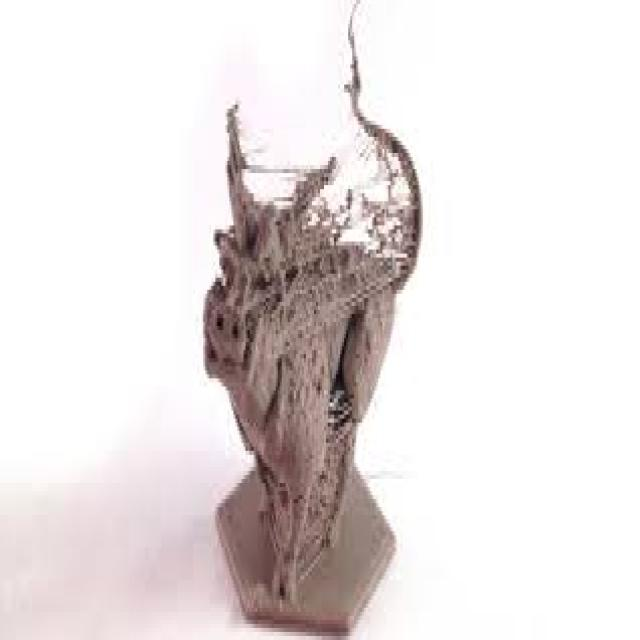Stringing: (284, 142, 416, 322)
